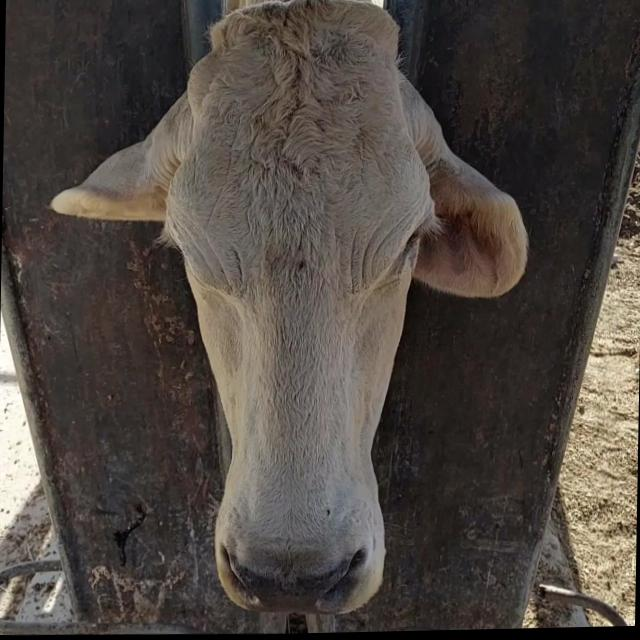cowFace: (155, 0, 439, 616)
